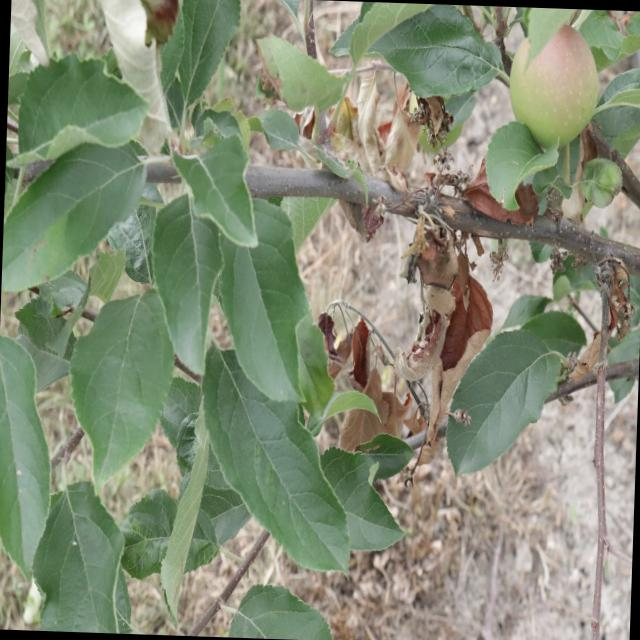-FireBlight-: (295, 128, 531, 486), (337, 74, 434, 191), (561, 254, 640, 382)
